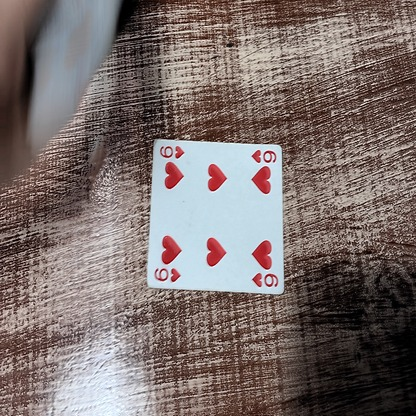6h: (158, 140, 185, 161), (251, 272, 279, 289), (252, 147, 276, 163), (154, 267, 180, 281)
